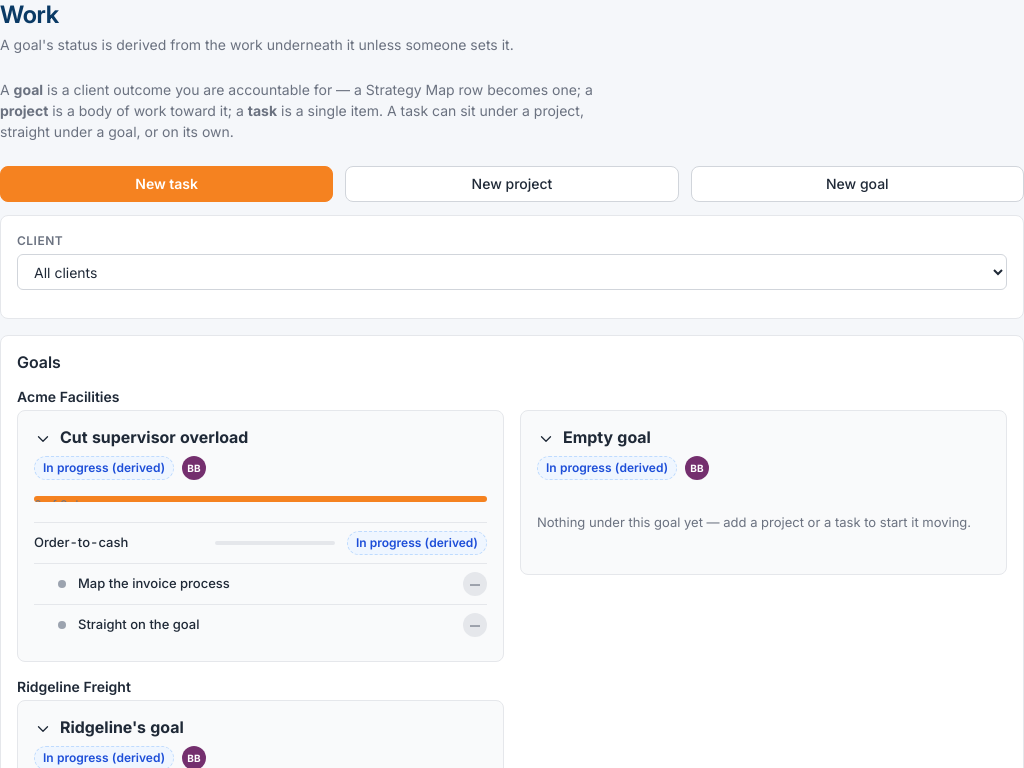
Test: Work carries a company dimension › says a client has no goals rather than showing an empty card
The image size is (1024, 768).
Expected: the link "Order-to-cash" is shown, [34,534,128,550]
Select "Zephyr Labs" in the dropdown named "Filter by client company". click: (512, 272)
box: [17,254,1007,290]
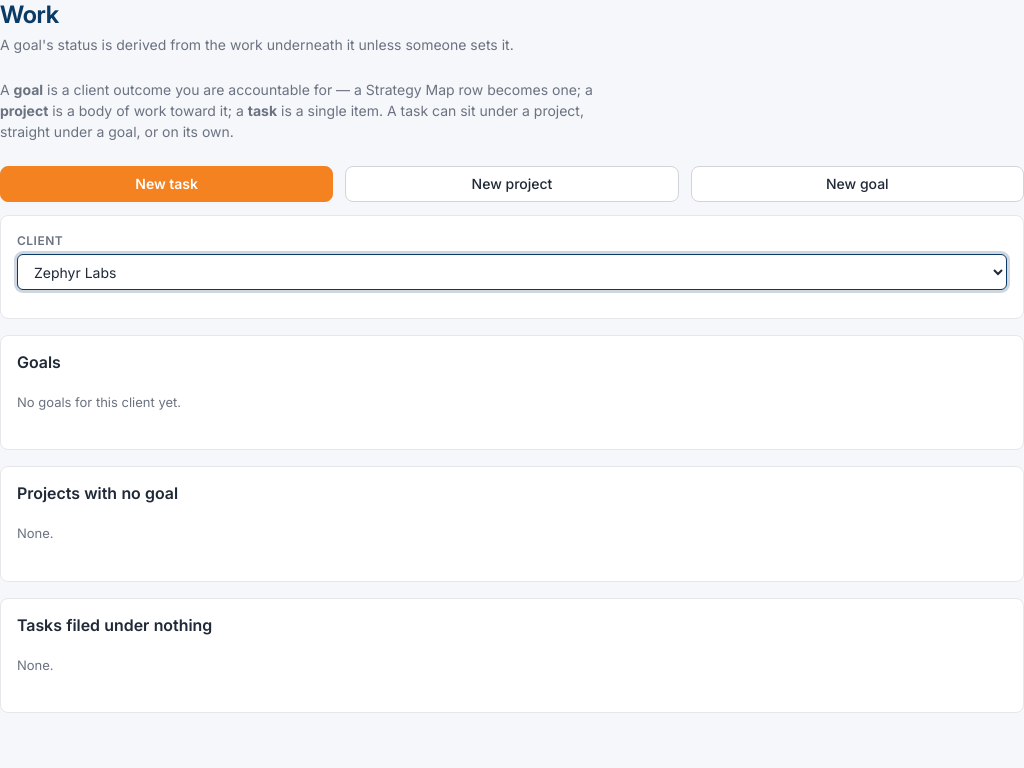
Expected: the text "No goals for this client yet." is shown, [17,394,181,410]
